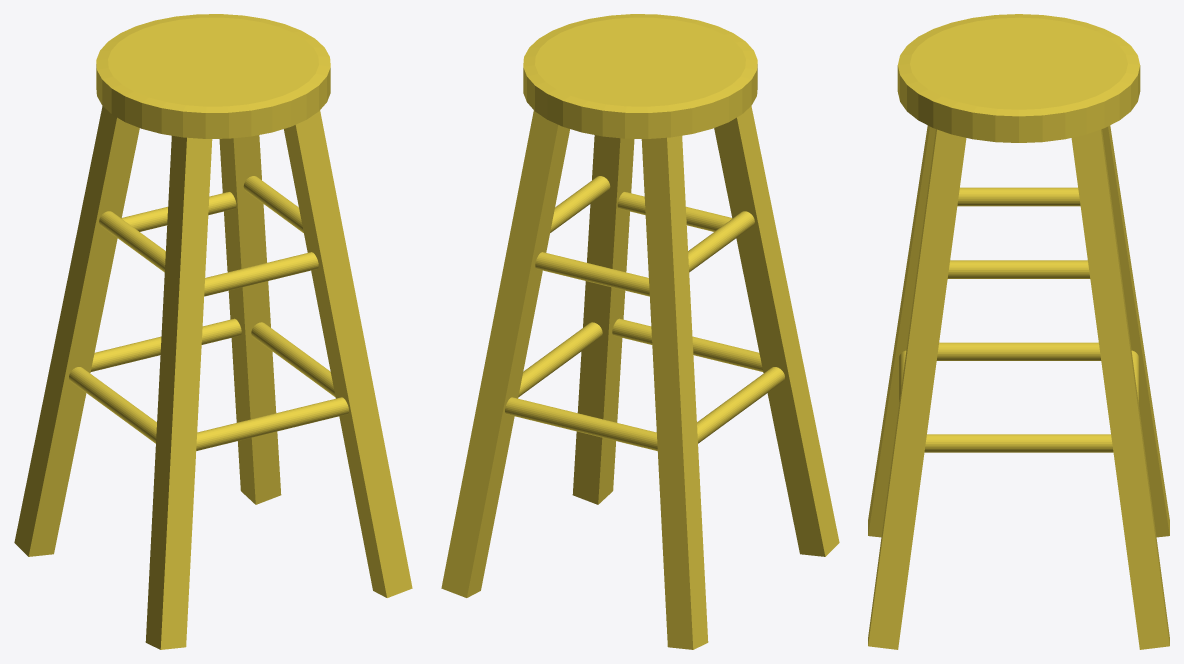
File: stool.fbx
The picture shows the model from 3 angles, left to right: view 1: azimuth 30°, elevation 25°; view 2: azimuth 150°, elevation 25°; view 3: azimuth 270°, elevation 25°; orthographic projection. The views are drawn at different scales.
Parts seen in each view (by area): view 1: Cube.005, Cylinder.021, Cylinder.024, Cylinder.025, Cylinder.022, Cylinder.023; view 2: Cube.005, Cylinder.021, Cylinder.024, Cylinder.025, Cylinder.022, Cylinder.023; view 3: Cube.005, Cylinder.021, Cylinder.025, Cylinder.023.
Boxes of the visible parts, x1,y1,x2,y2 form: Cube.005: (14,106,412,649); Cylinder.021: (96,14,330,138); Cylinder.024: (90,318,348,450); Cylinder.025: (69,322,335,443); Cylinder.022: (121,192,318,296); Cylinder.023: (99,176,303,272); Cube.005: (441,106,839,649); Cylinder.021: (523,14,757,138); Cylinder.024: (505,318,763,450); Cylinder.025: (518,322,784,443); Cylinder.022: (535,192,732,296); Cylinder.023: (550,176,754,272); Cube.005: (868,125,1169,649); Cylinder.021: (897,14,1140,142); Cylinder.025: (924,342,1113,452); Cylinder.023: (947,187,1090,278).
Bounding box in the file's own units: 588 × 1134 × 589.
